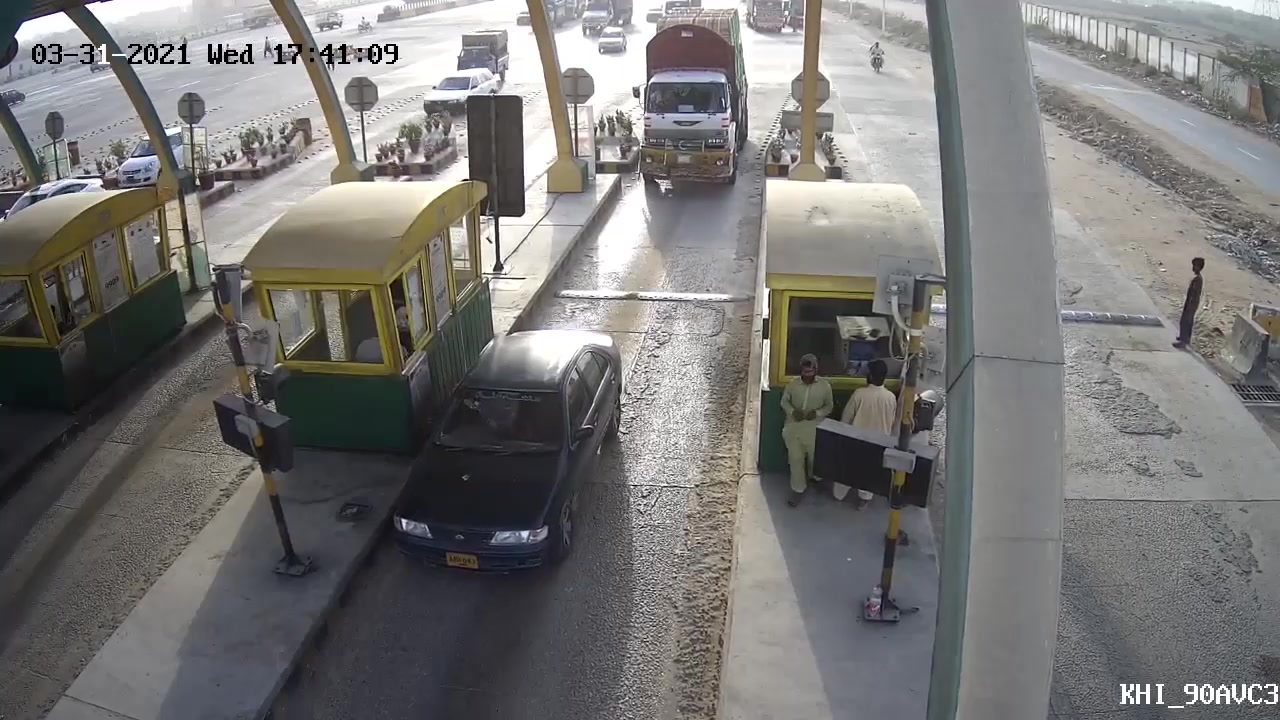F1: (378, 327, 630, 594)
F5: (630, 2, 755, 192)
